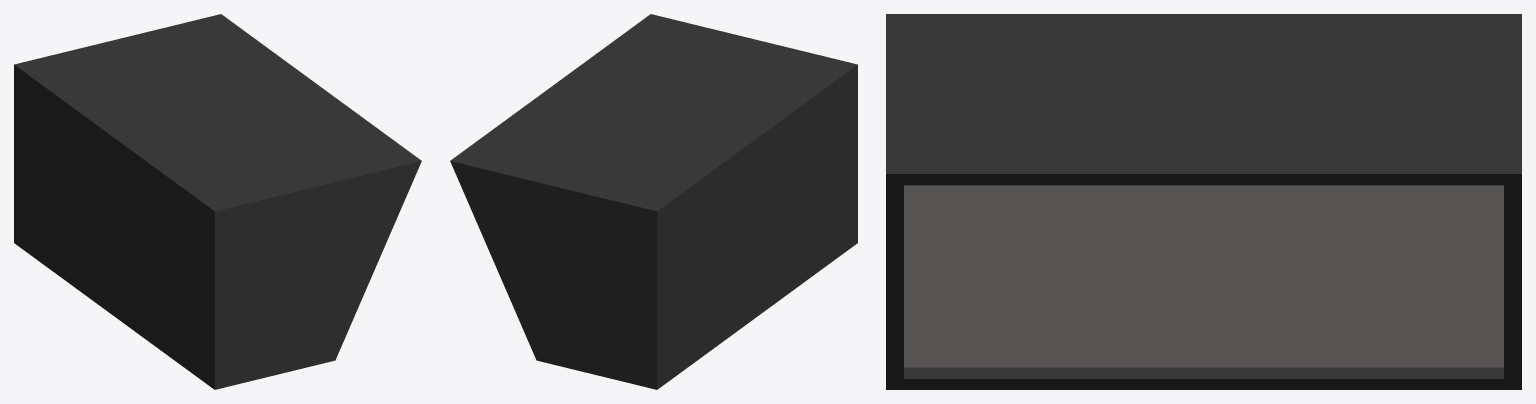
File: garage_light.glb
3 renders of one model, left to right at view 1: azimuth 30°, elevation 25°; view 2: azimuth 150°, elevation 25°; view 3: azimuth 270°, elevation 25°, orthographic. The views are drawn at different scales.
Visible parts, largest first — view 1: garage_light; view 2: garage_light; view 3: garage_light.
Part boxes in pixels (box(x1,y1,x2,y2)): garage_light: box(14, 14, 421, 389); garage_light: box(450, 14, 857, 389); garage_light: box(886, 14, 1521, 389).
Bounding box in the file's own units: 0.2429 × 0.2 × 0.4076.
Materials: 1 (1 with a texture image).
